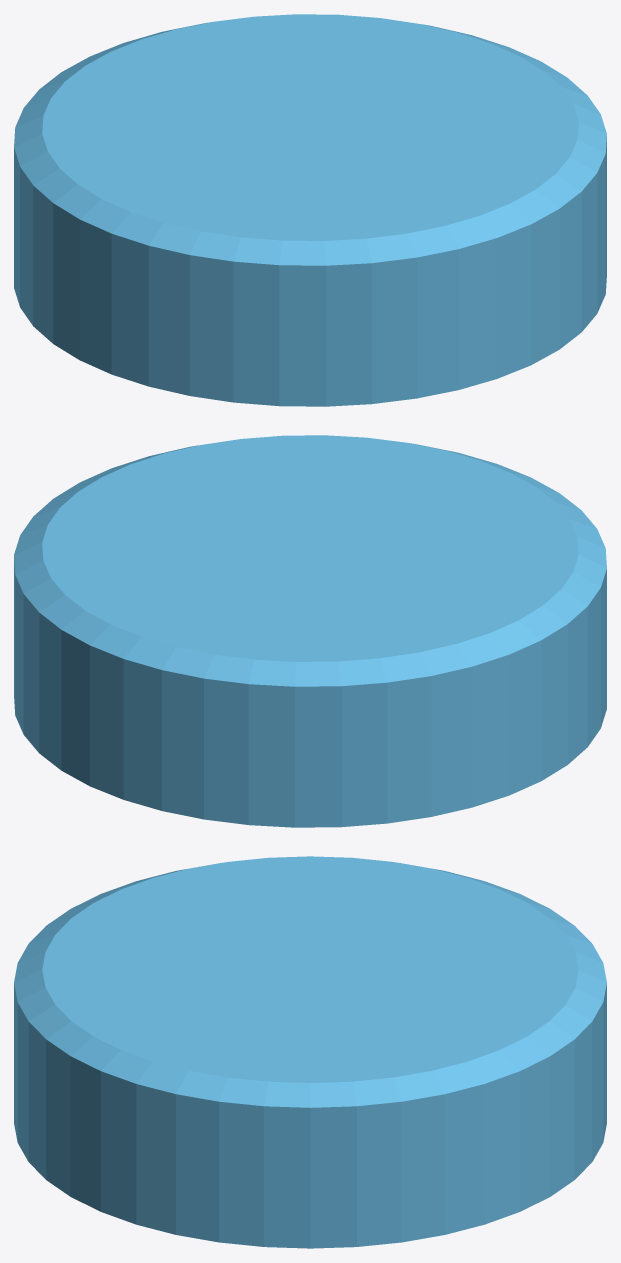
Rendered from tapa.glb.
3 views of the same model, one above another, from view 1: azimuth 30°, elevation 25°; view 2: azimuth 150°, elevation 25°; view 3: azimuth 270°, elevation 25° (orthographic).
Bounding box in the file's own units: 0.042 × 0.012 × 0.042.
